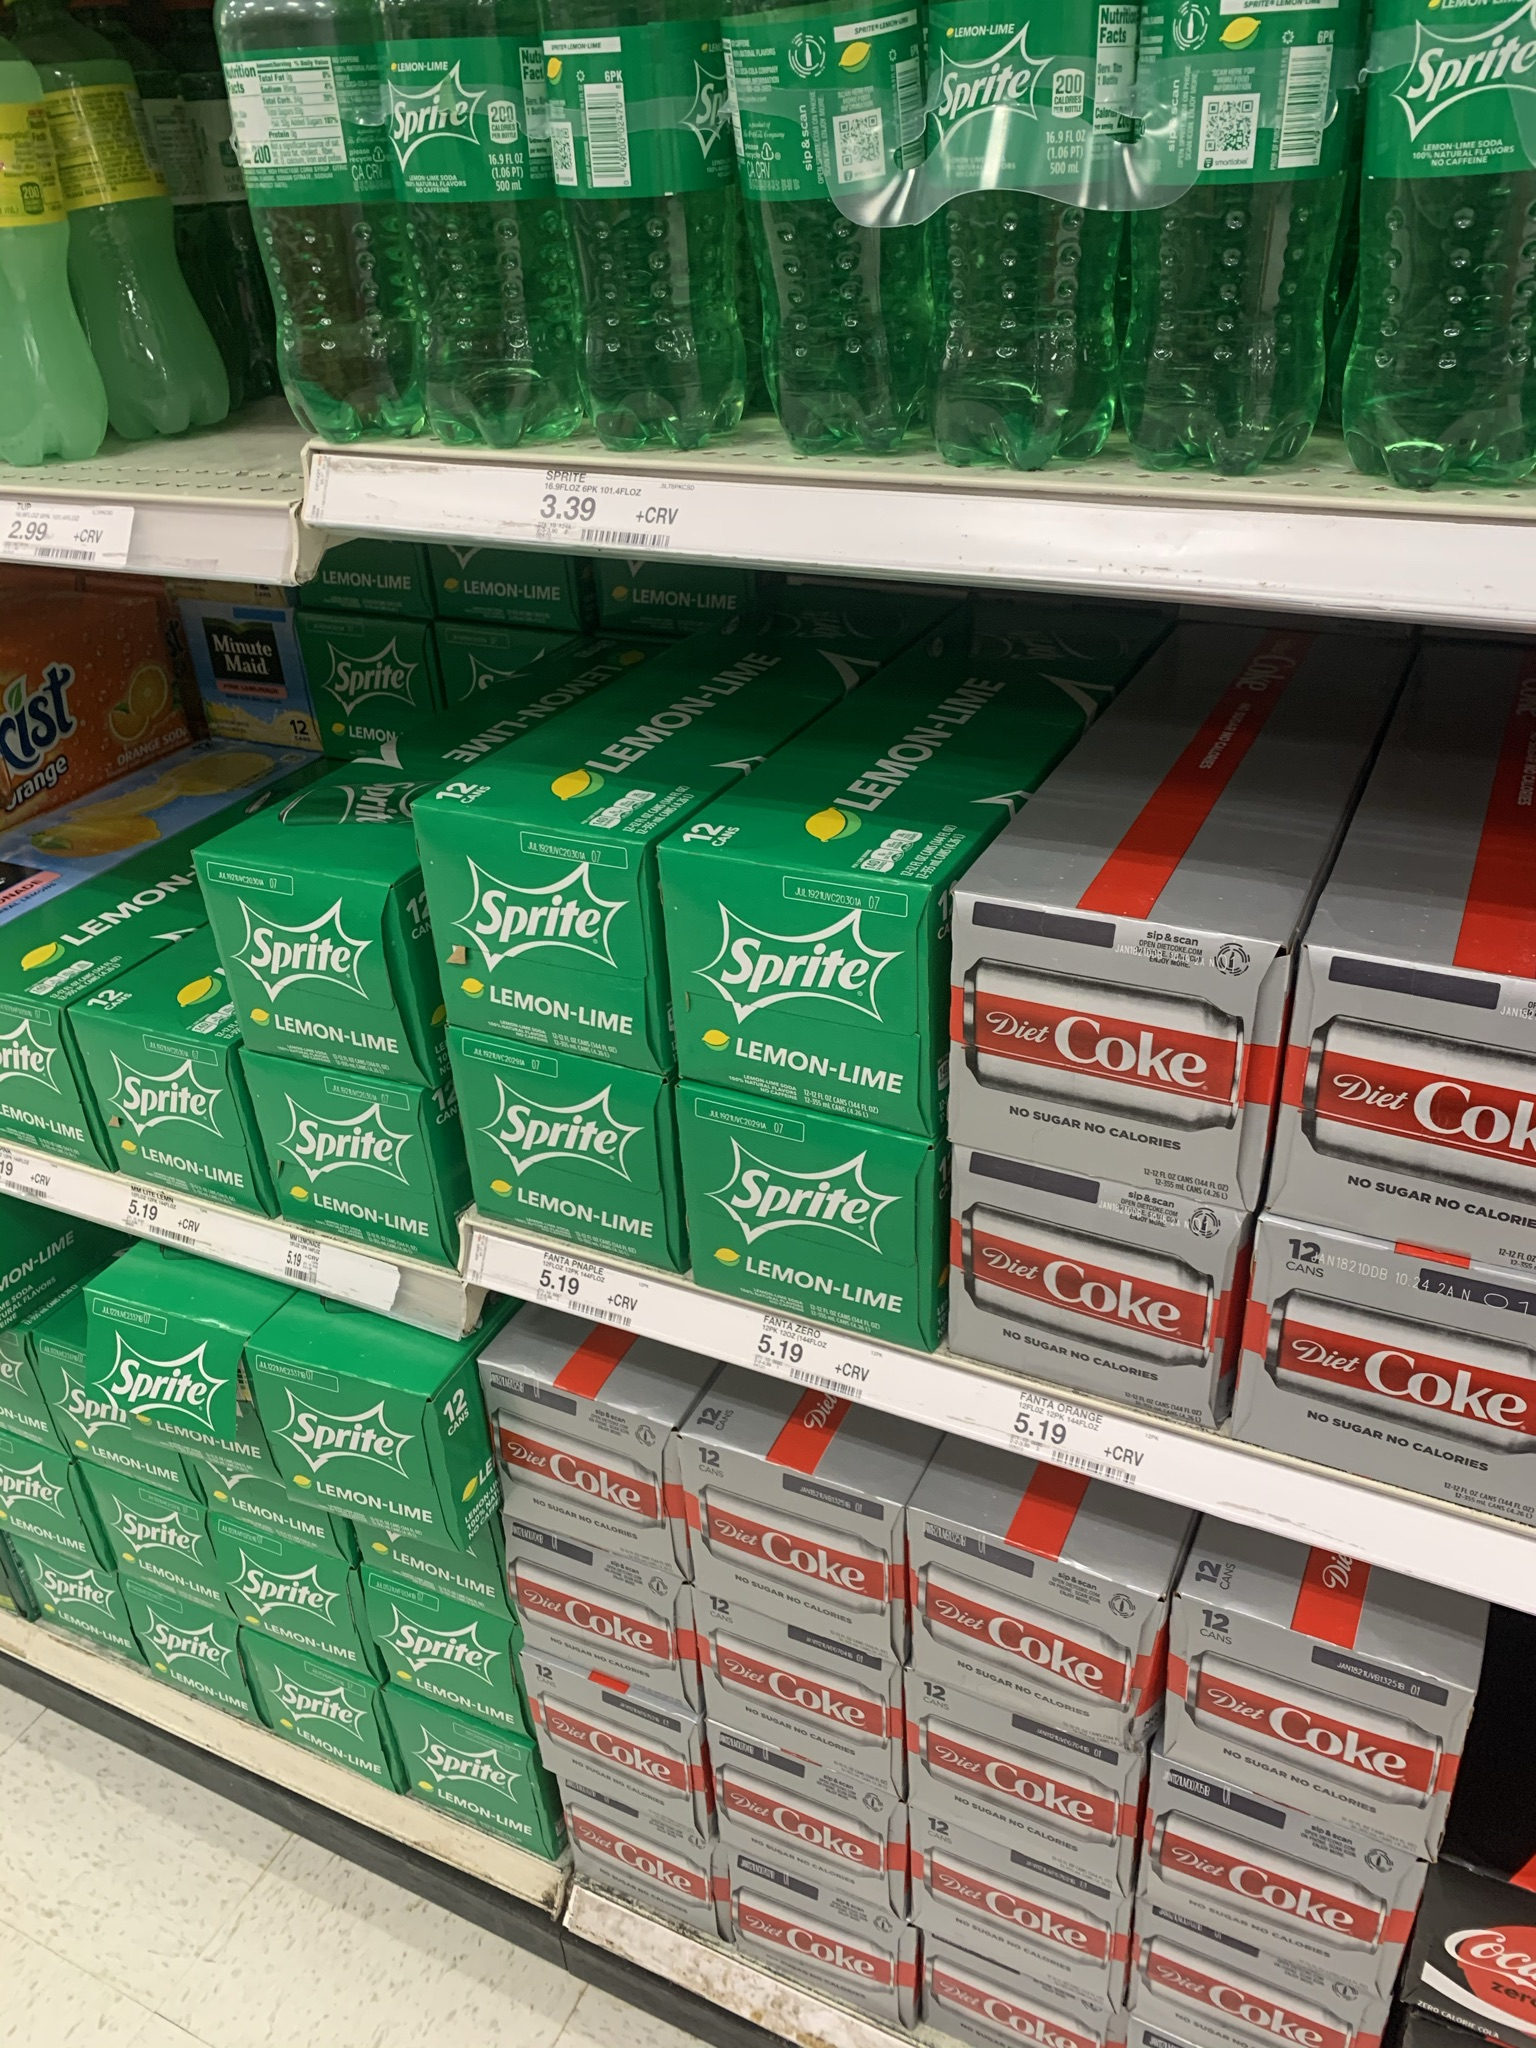box: (970, 914, 1263, 1156), (1318, 974, 1536, 1232), (684, 861, 921, 1089), (1265, 1280, 1536, 1464), (436, 814, 660, 1018), (694, 1121, 925, 1300), (971, 1209, 1225, 1372), (1187, 1630, 1450, 1779), (458, 1059, 666, 1222), (1167, 1822, 1407, 1950), (705, 1464, 904, 1609), (260, 1076, 439, 1227), (282, 1355, 449, 1517), (231, 856, 403, 1013), (937, 1564, 1134, 1684), (939, 1734, 1121, 1861), (492, 1374, 673, 1501), (106, 1308, 245, 1455), (728, 1655, 894, 1774), (98, 1034, 240, 1172), (523, 1576, 686, 1680), (549, 1716, 697, 1819), (378, 1593, 502, 1692), (265, 1650, 374, 1737), (139, 1608, 236, 1687)
